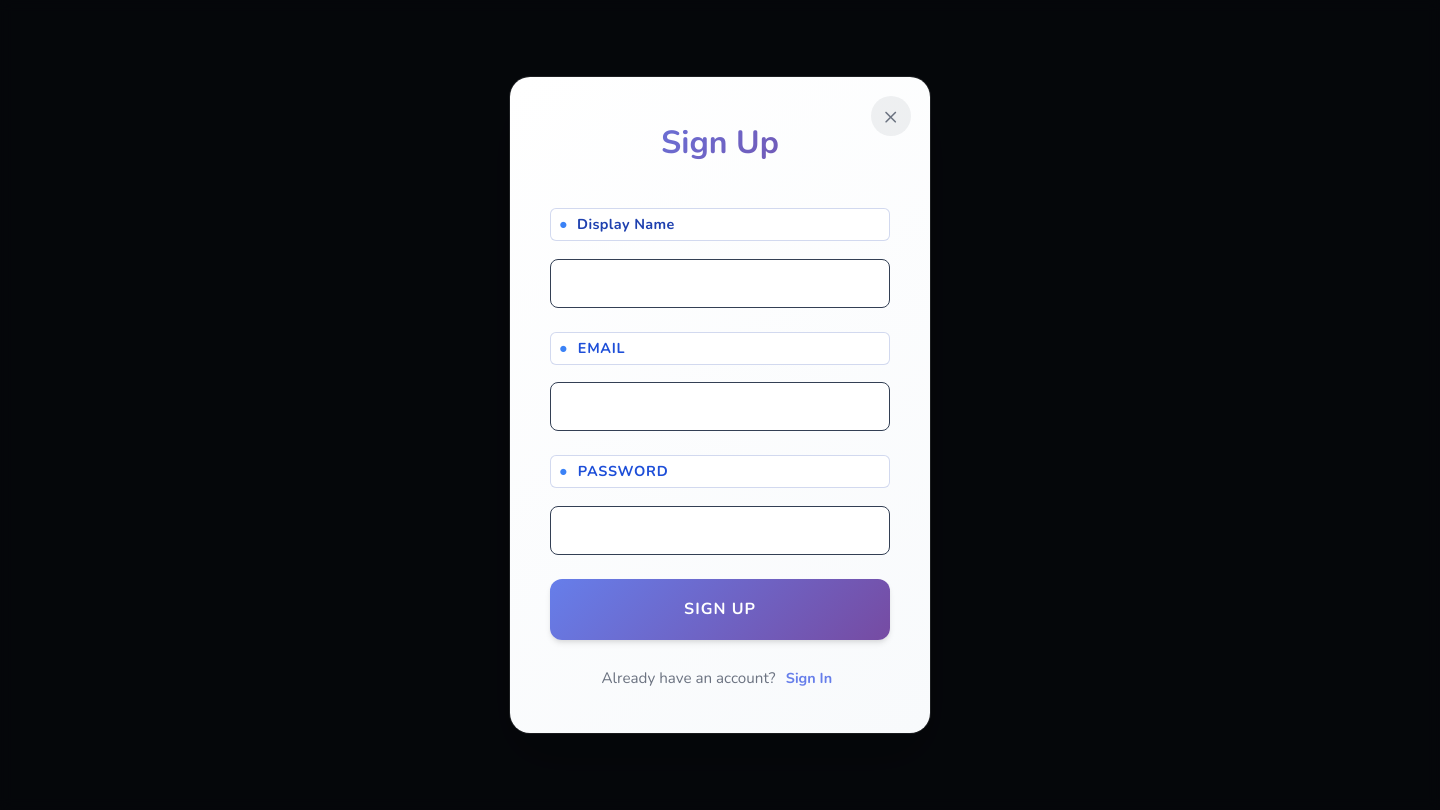
Scenario: AuthModal Component › Form Submission - Signup › handles signup error
Fill in form
Type "Test User" into the field labelled "Display Name" at (720,283), box [550, 259, 890, 308]
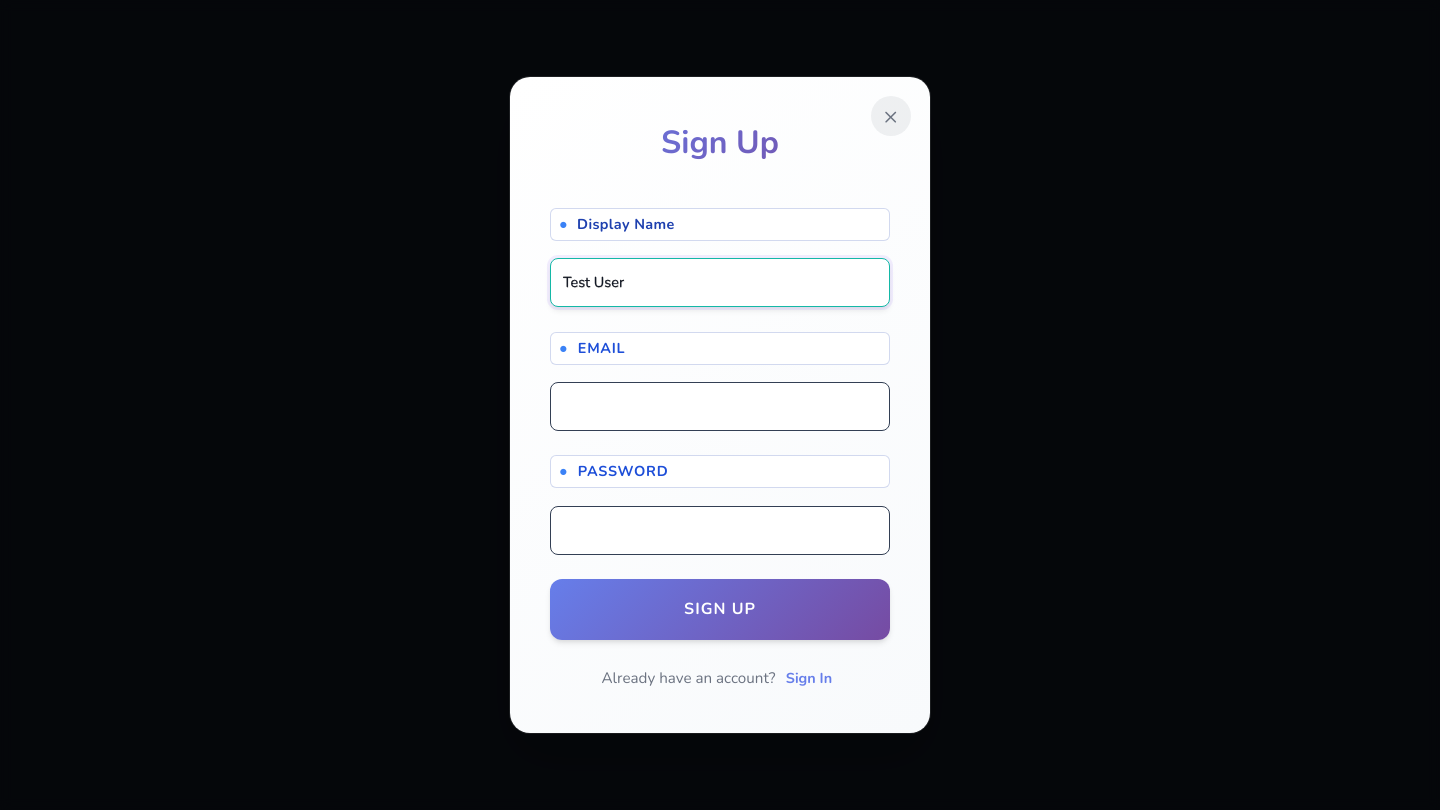
Type "existing@example.com" into the field labelled "Email" at (720,407), box [550, 382, 890, 431]
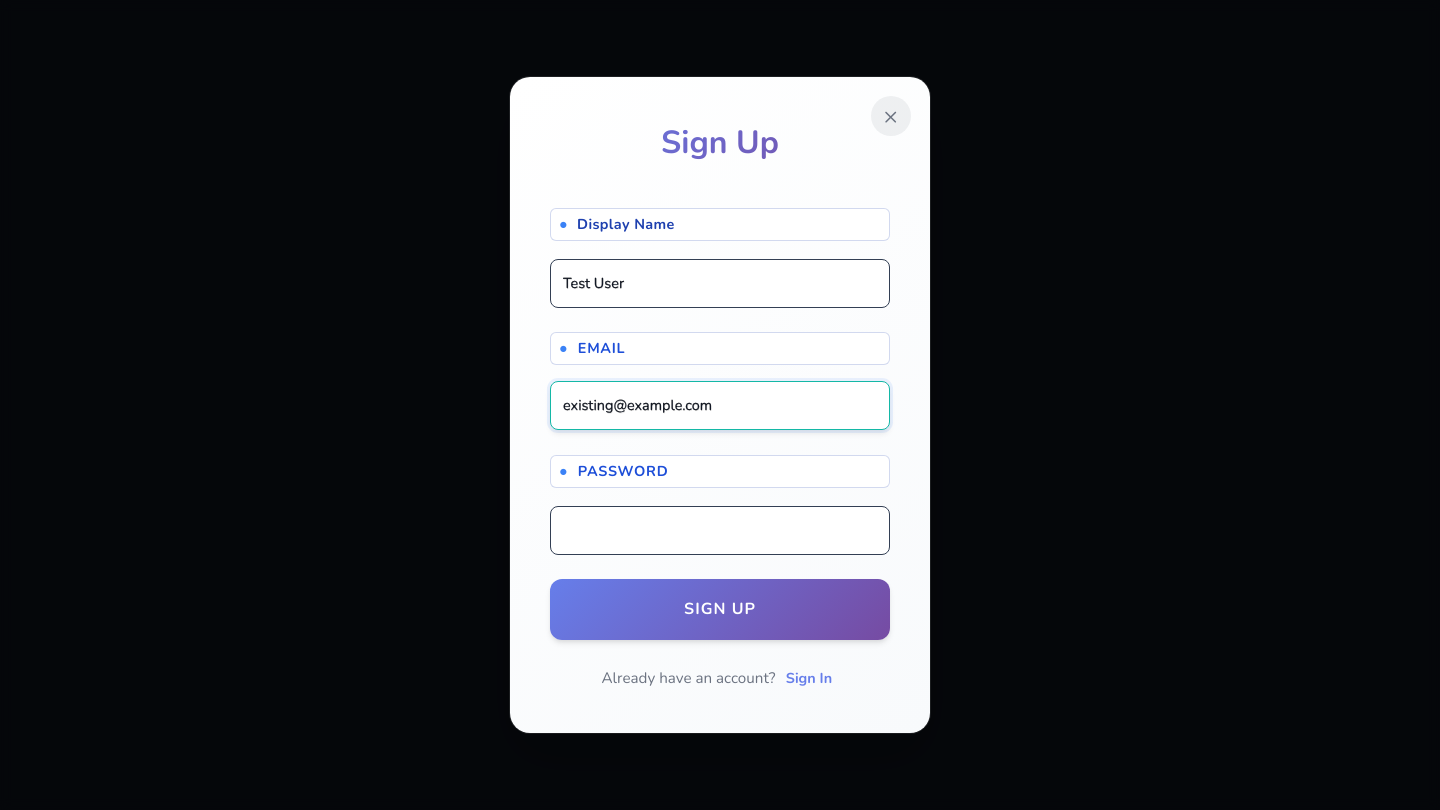
Type "SecurePassword123!" into the password field labelled "Password" at (720,530), box [550, 506, 890, 555]
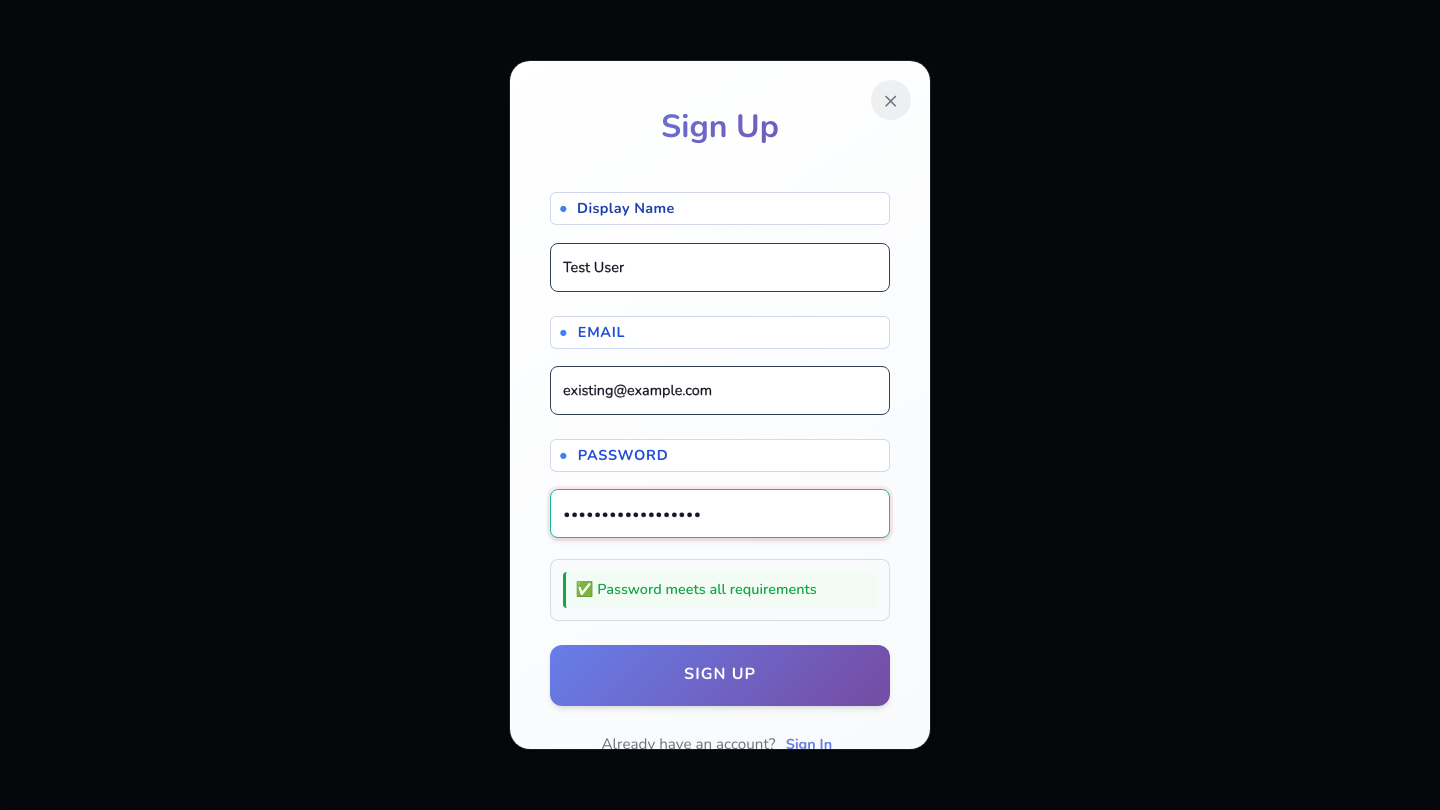
Submit form
Click the button "Sign Up" at (720,675), box [550, 645, 890, 706]
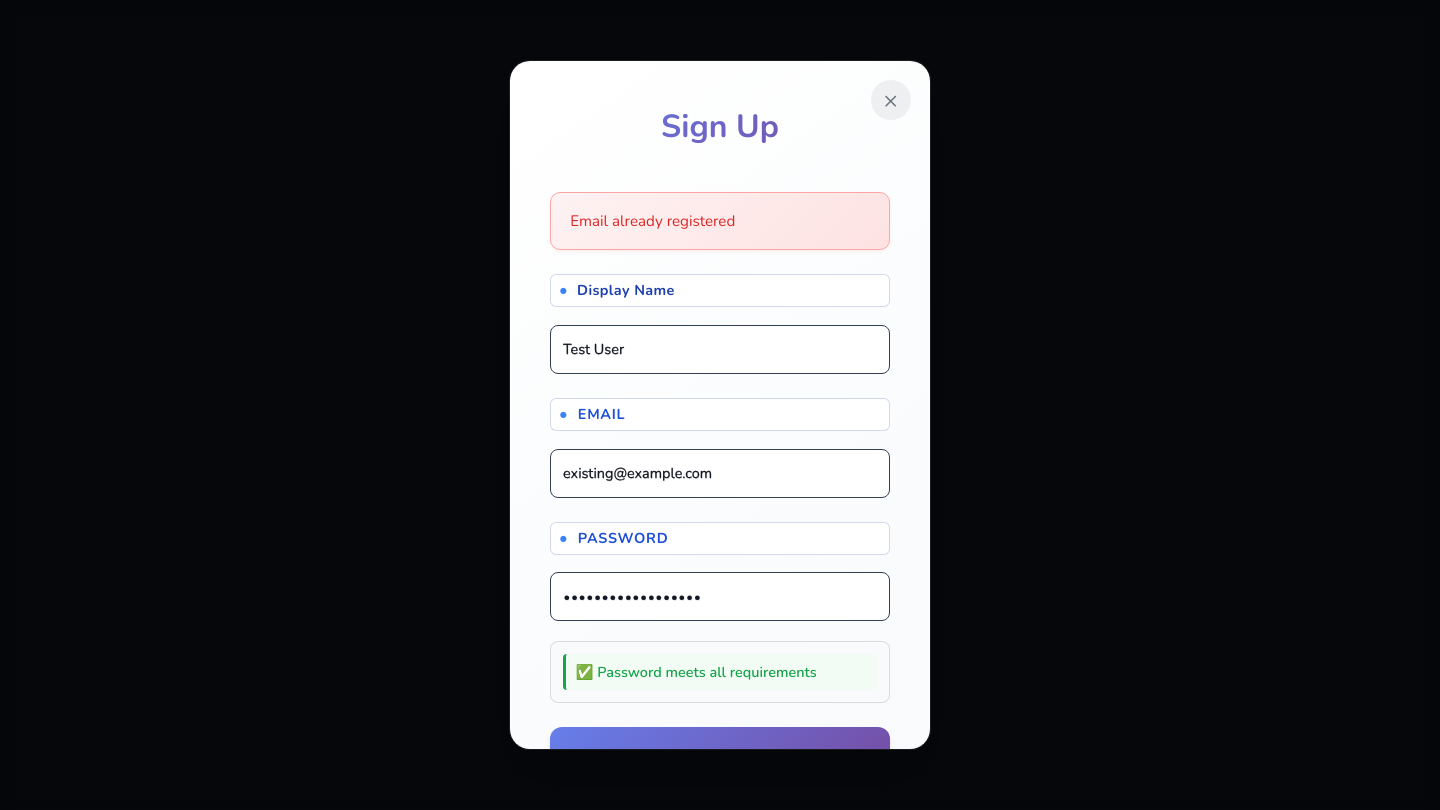
Expected: the text "Email already registered" is shown, [550, 192, 890, 250]
